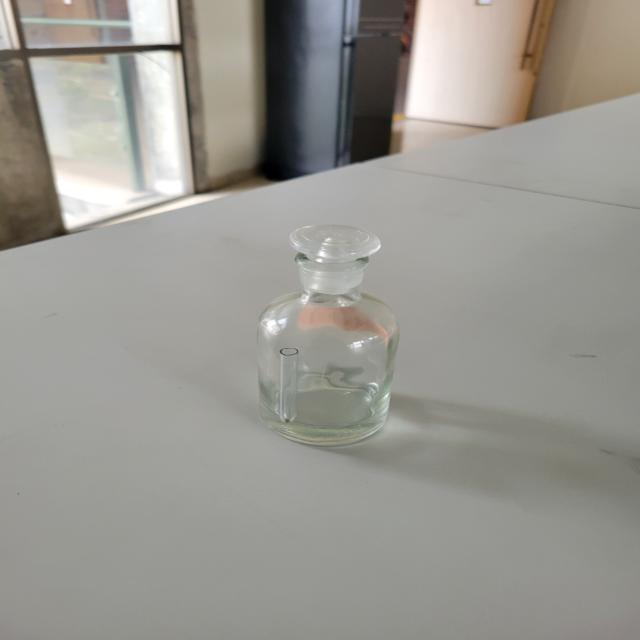Reagent_Bottle: (203, 167, 454, 493)
